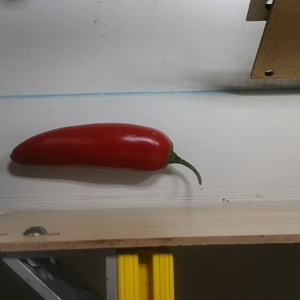Cut Point: (153, 128, 179, 173)
